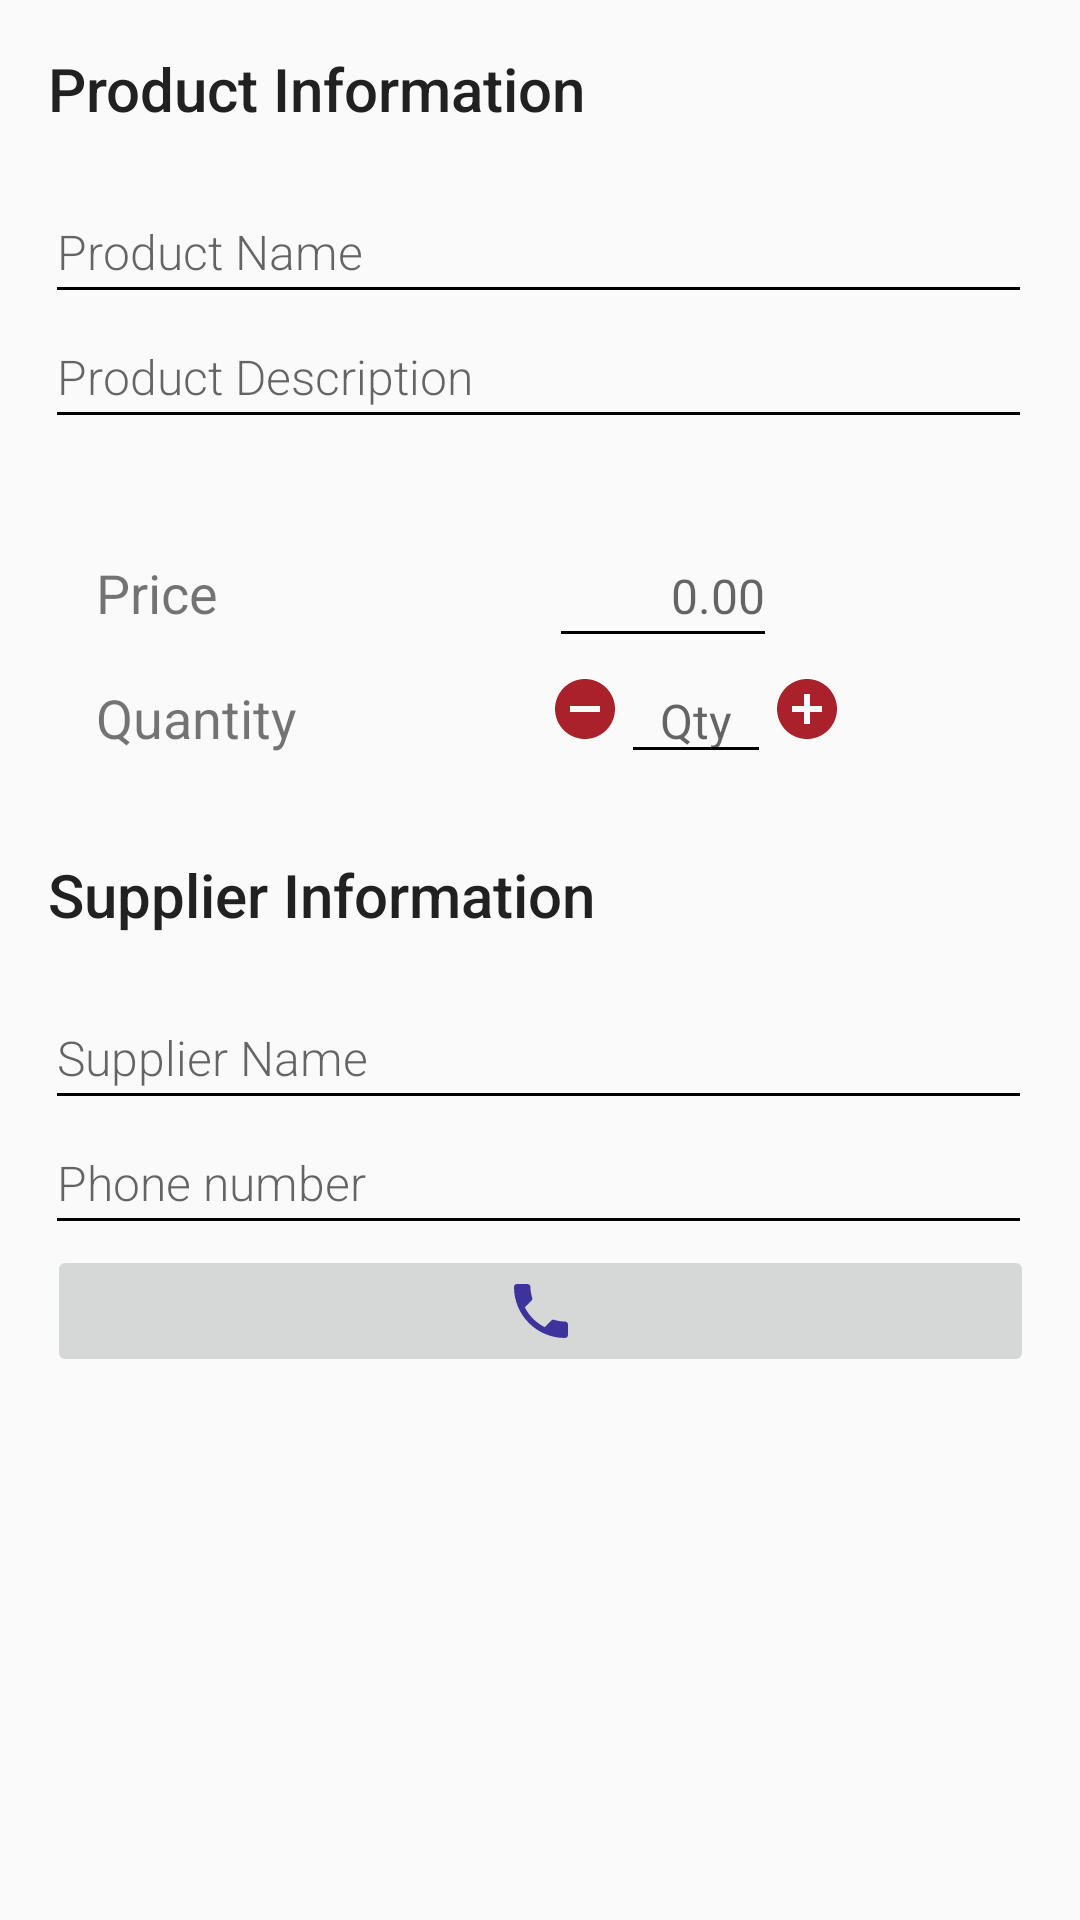

Point at icon controls on the screen. Image size 1080×1920, points as point (x, y).
Add one: point (807, 709)
Subtract one: point (585, 709)
